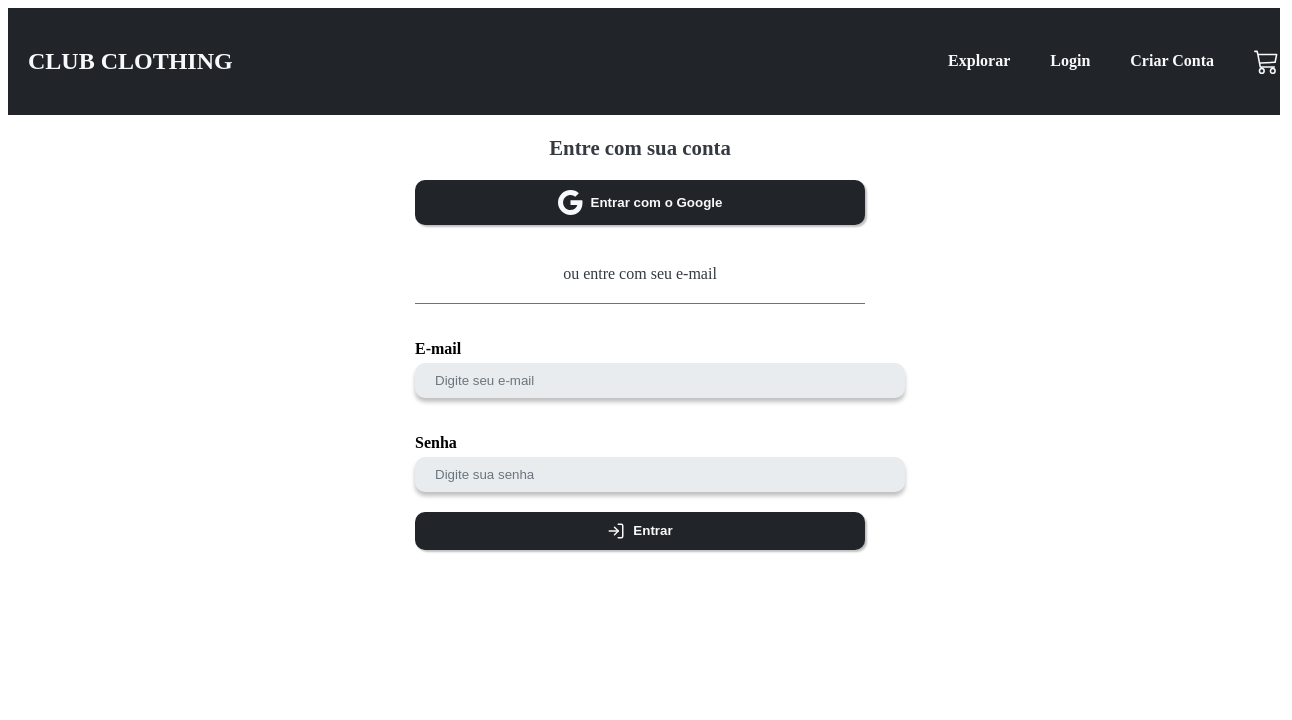
Scenario: Login › should show an error if password is not valid
Type "lorem@ipsum.com" into the field with placeholder "Digite seu e-mail" at (660, 380), box [415,363,905,398]
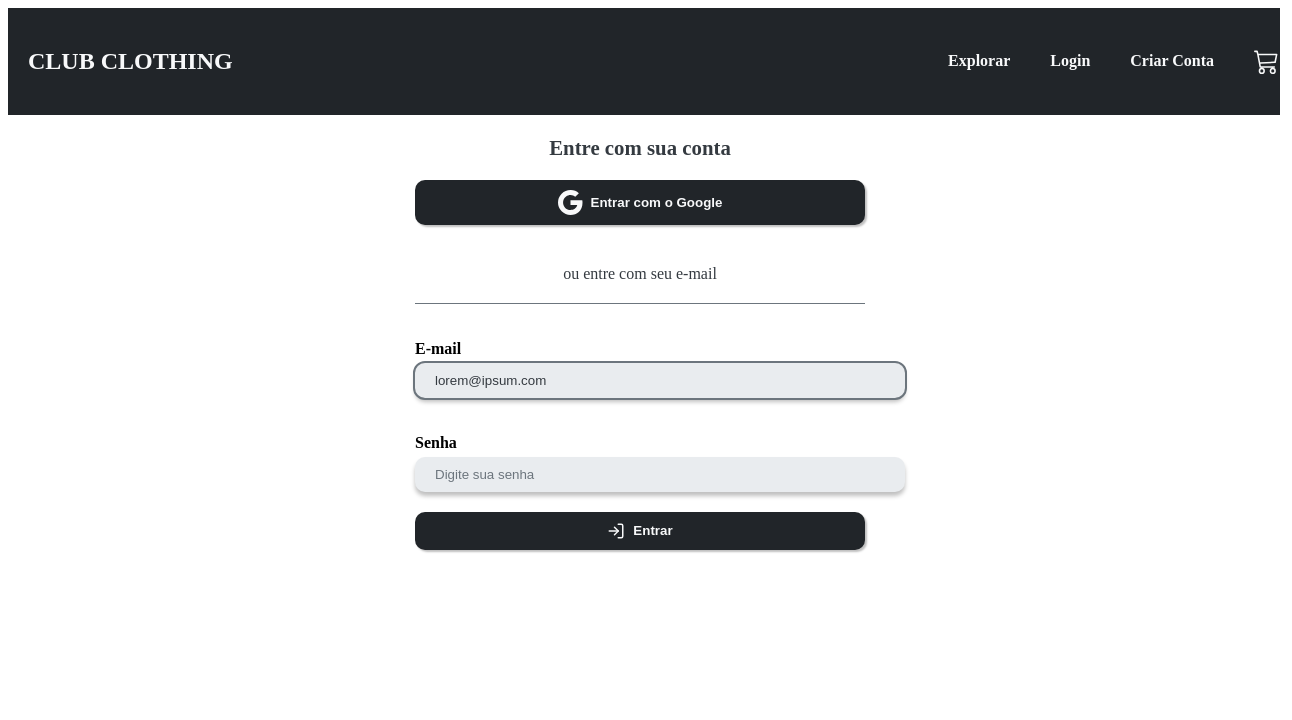
Type "123456" into the password field with placeholder "Digite sua senha" at (660, 474), box [415,457,905,492]
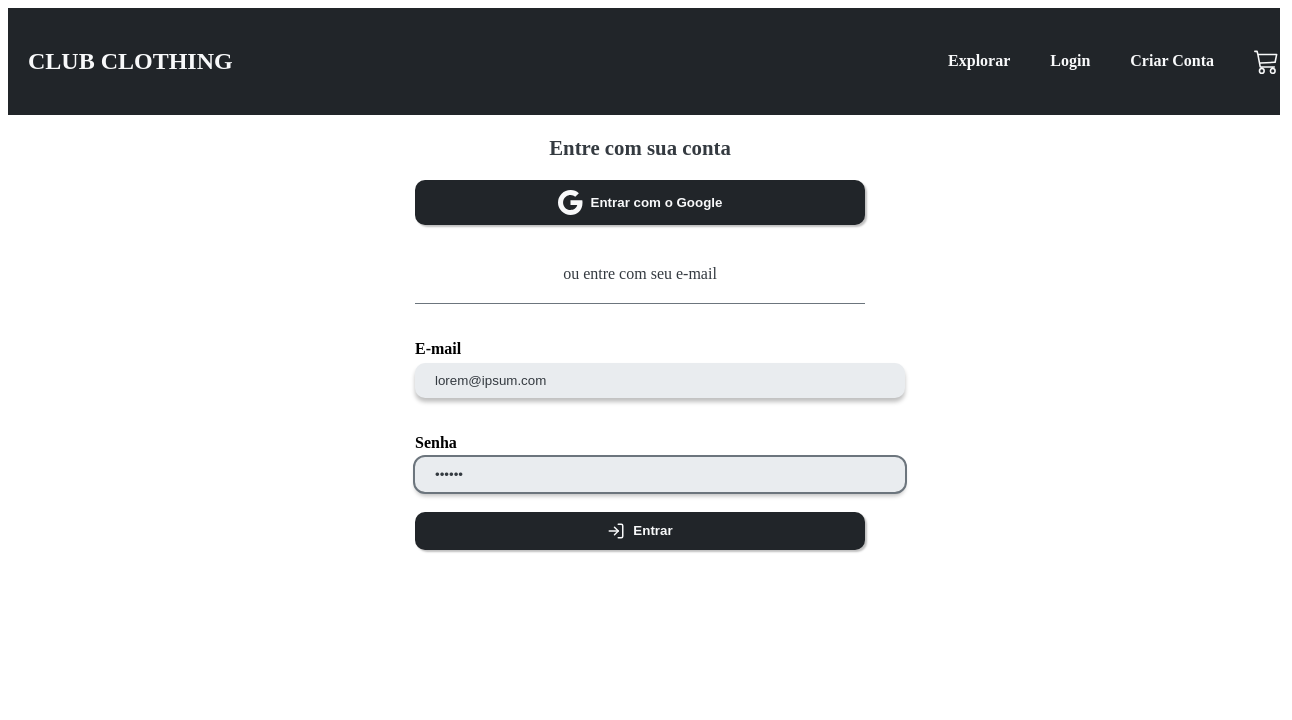
Click the button "Entrar" at (640, 531), box [415,512,865,550]
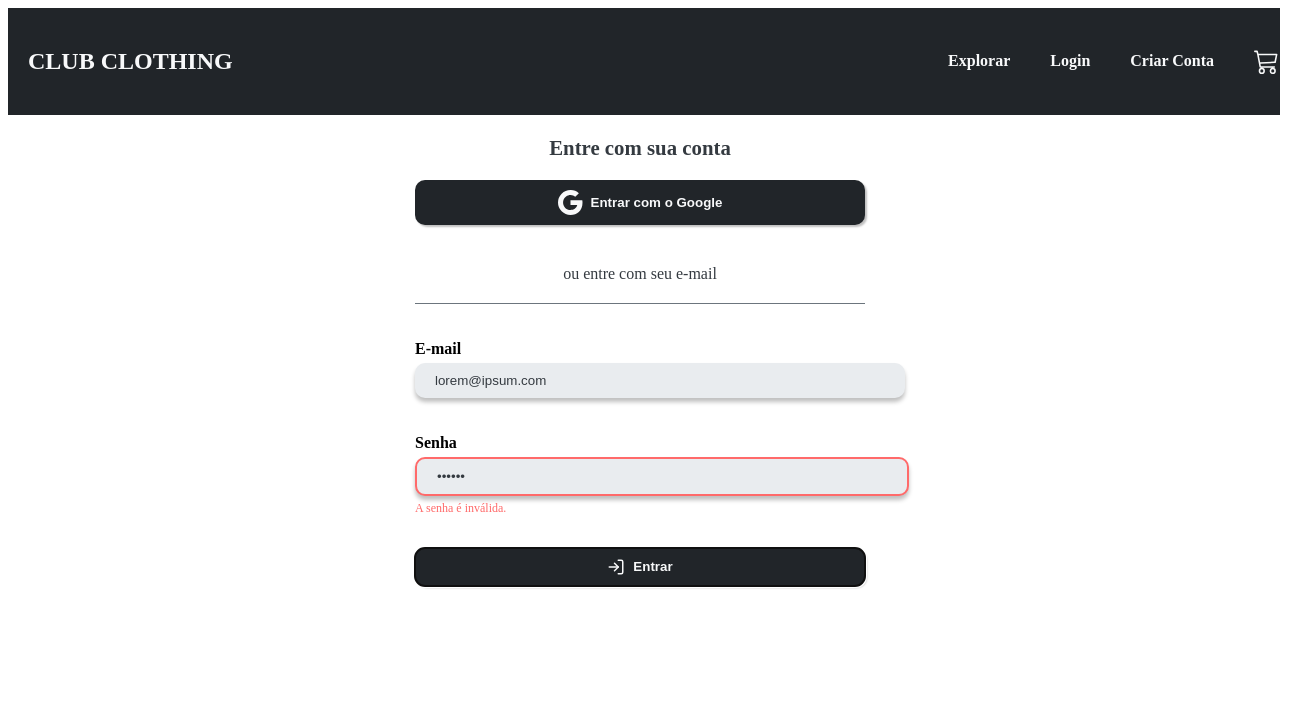
Expected: the text "A senha é inválida." is shown, [415,501,506,515]
